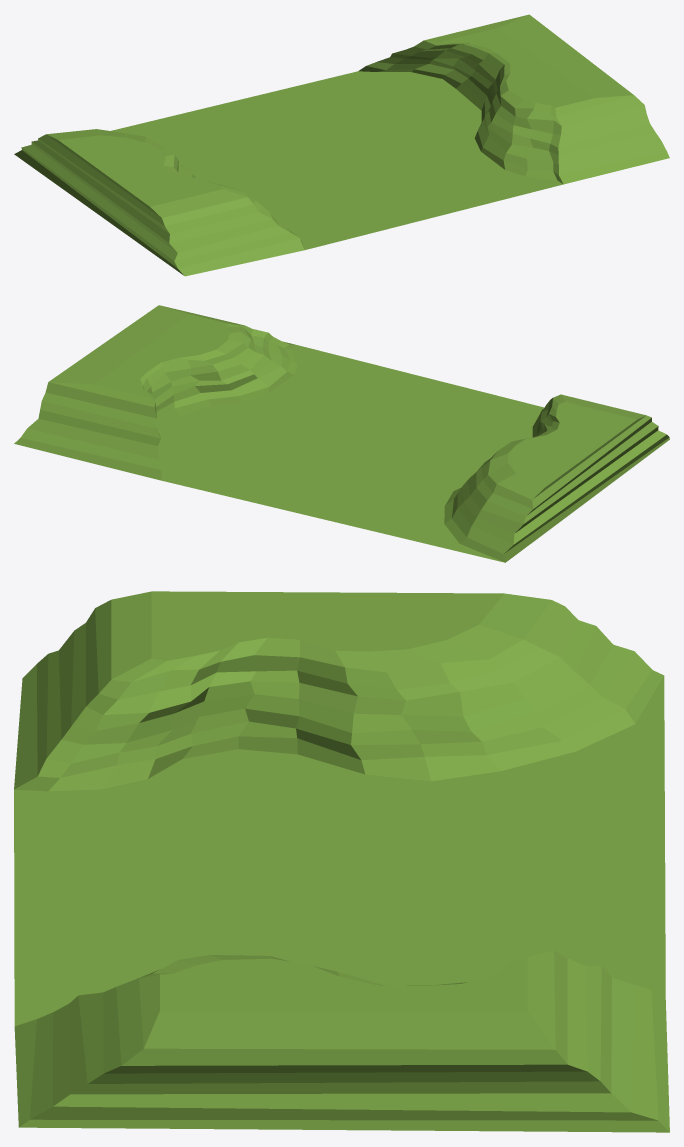
The model's file is FLOOR COLLISION.fbx.
3 views of the same model, one above another, from view 1: azimuth 30°, elevation 25°; view 2: azimuth 150°, elevation 25°; view 3: azimuth 270°, elevation 25° (orthographic). The views are drawn at different scales.
Visible parts, largest first — view 1: Plane.005; view 2: Plane.005; view 3: Plane.005.
Part boxes in pixels (x1=…): Plane.005: x1=14, y1=14, x2=669, y2=276; Plane.005: x1=14, y1=305, x2=669, y2=562; Plane.005: x1=14, y1=591, x2=669, y2=1132.
Size of the model in its own units: 39699 by 3611 by 23922.
